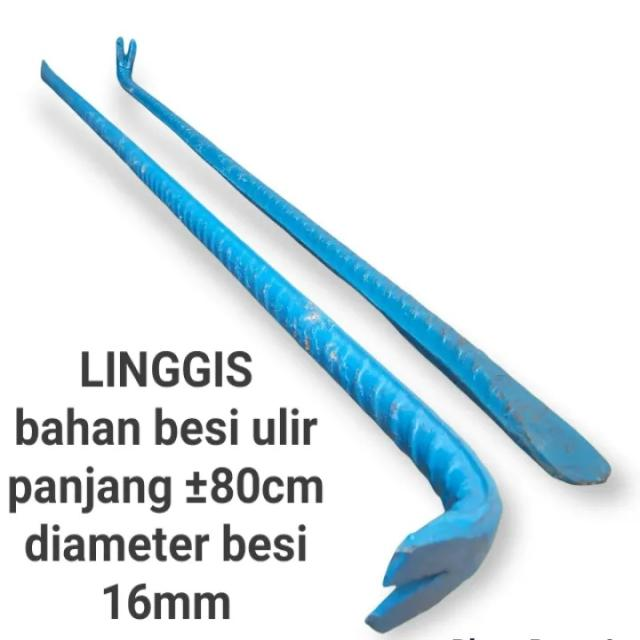Linggis: (39, 61, 501, 631)
